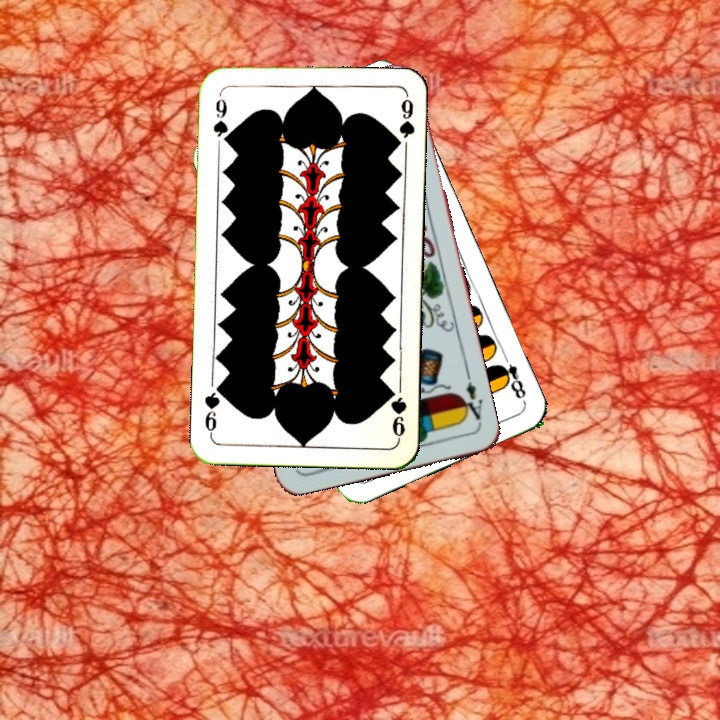E8: (492, 349, 529, 405)
EA: (455, 378, 485, 427)
G9: (384, 383, 409, 443), (209, 89, 231, 147)
